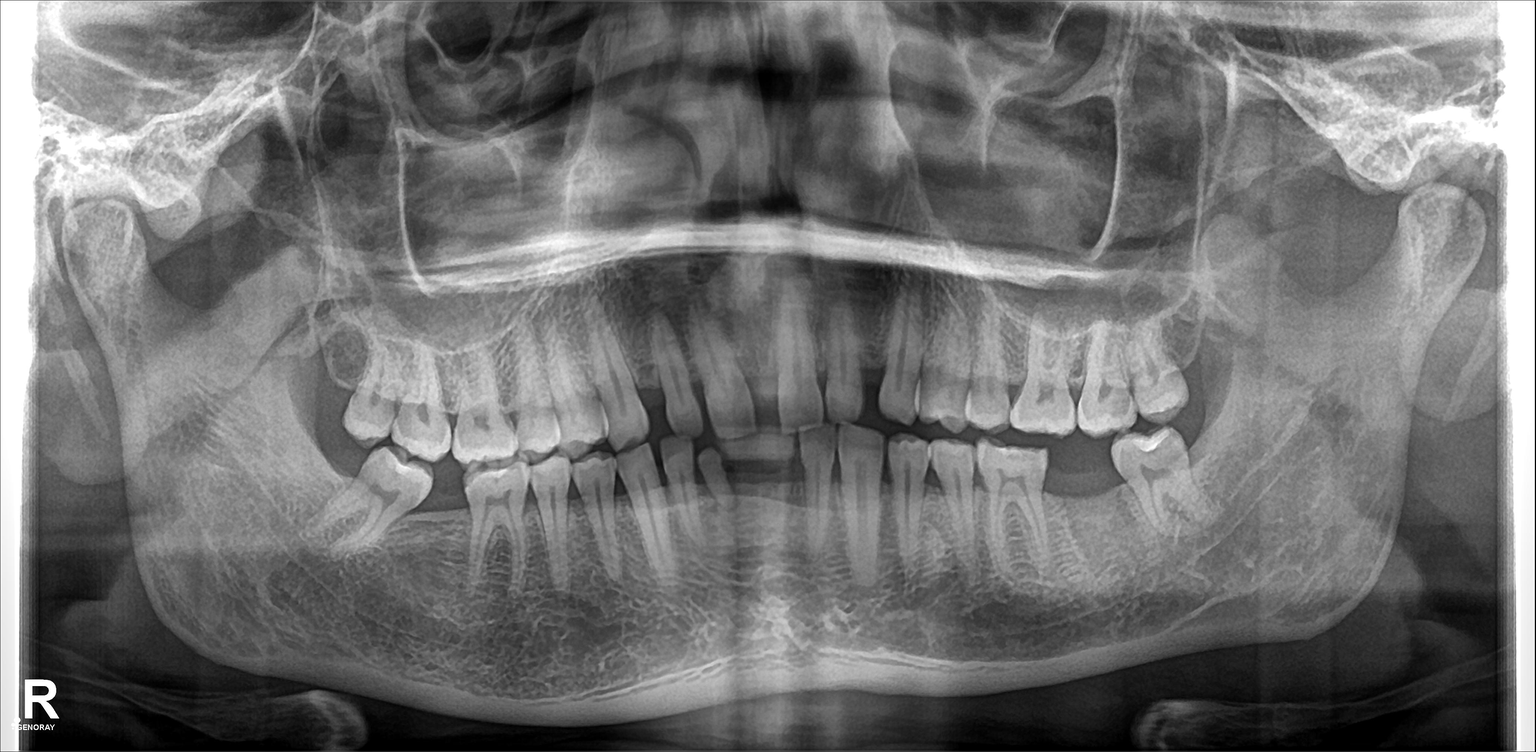Missing Tooth: (1050, 450, 1126, 565), (737, 437, 807, 557), (311, 298, 358, 426), (1186, 311, 1237, 399), (426, 477, 468, 576), (302, 441, 346, 521)
